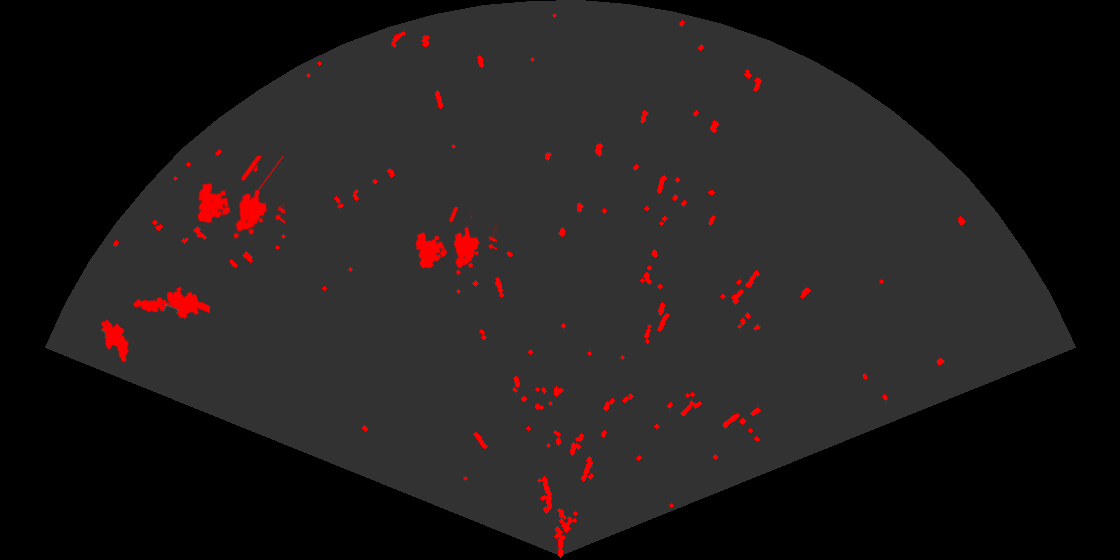AUV: (99, 318, 130, 364)
cage: (196, 156, 285, 240), (414, 207, 497, 276)
frogman: (132, 285, 210, 320)
